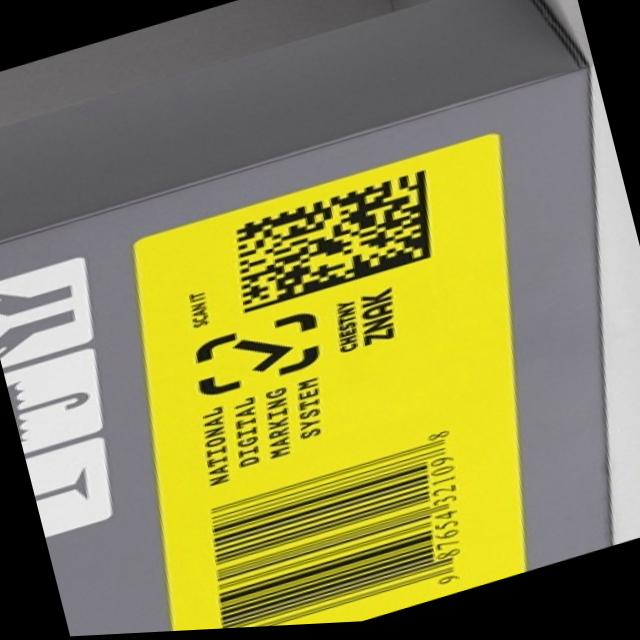datamatrix: (210, 162, 460, 328)
